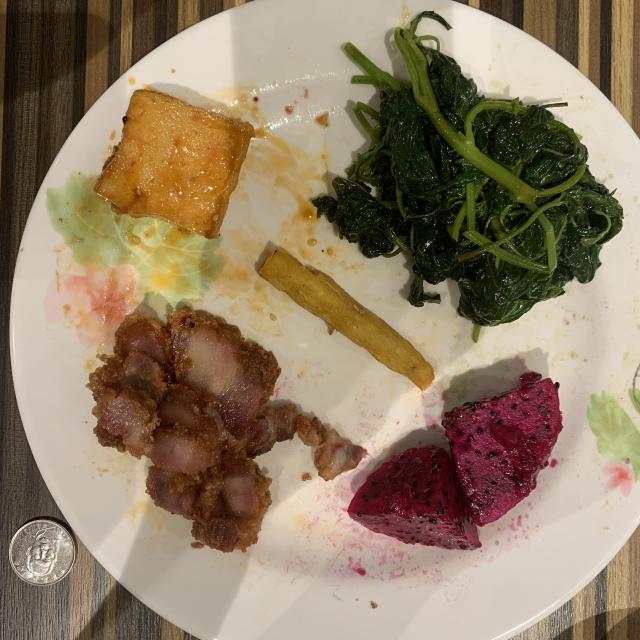coin: (10, 519, 75, 585)
creamy tofu: (95, 90, 254, 239)
red grilled pork: (88, 308, 366, 551)
sweet potato leaves: (314, 11, 622, 325)
